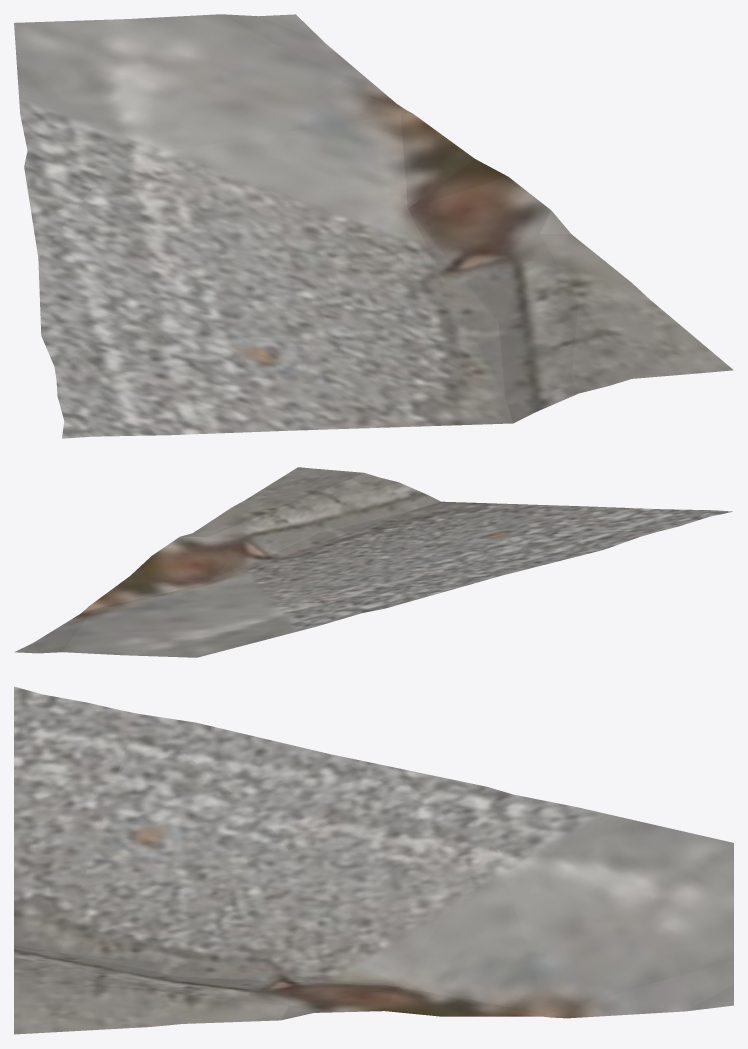
3 renders of one model, top to bottom at view 1: azimuth 30°, elevation 25°; view 2: azimuth 150°, elevation 25°; view 3: azimuth 270°, elevation 25°, orthographic. The views are drawn at different scales.
Size of the model in its own units: 0.7417 by 0.1007 by 0.8373.
2 materials, 2 textured.
